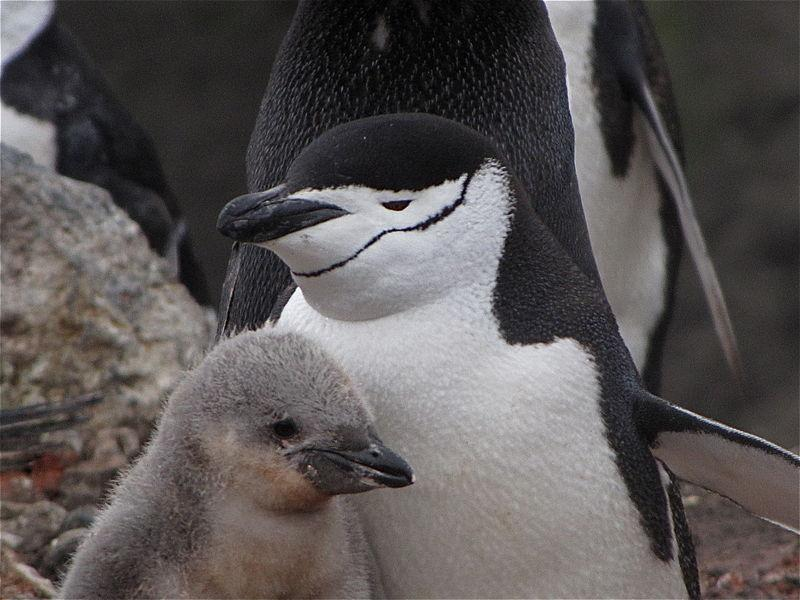Penguin: (219, 114, 799, 596), (214, 0, 598, 334), (61, 328, 412, 598), (547, 2, 742, 392)
